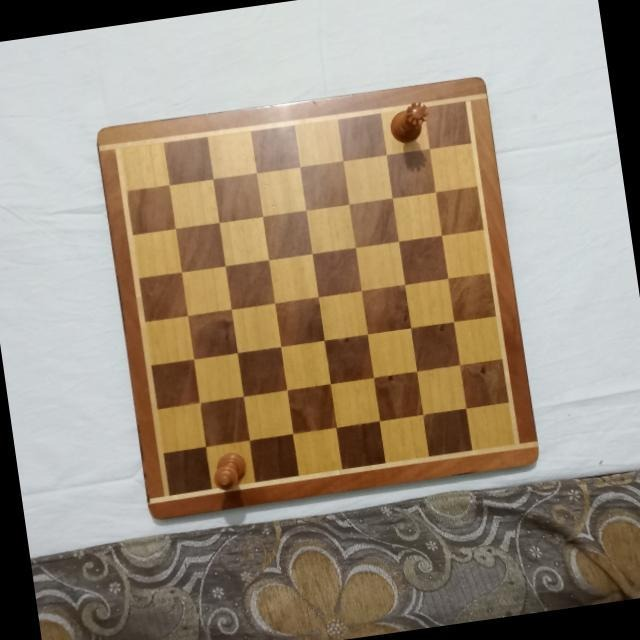white-king: (209, 448, 250, 492)
white-queen: (384, 96, 434, 146)
